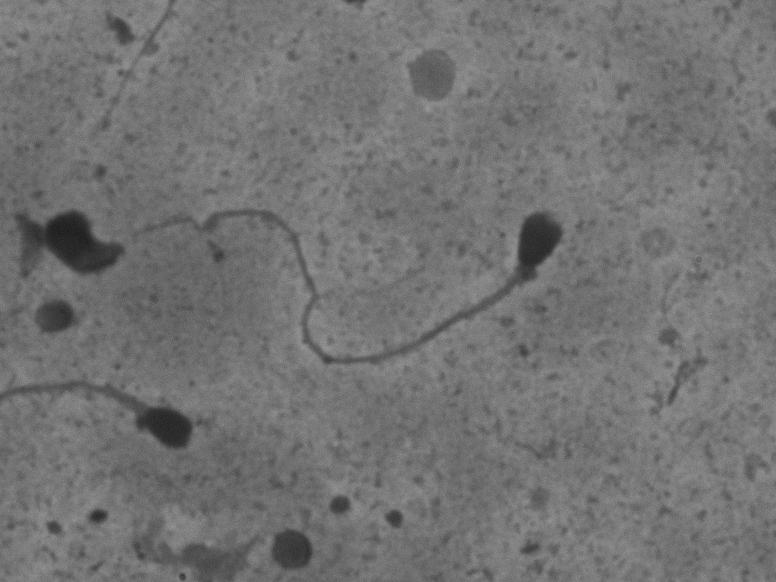Abnormal: (167, 151, 585, 388), (6, 362, 218, 472)
